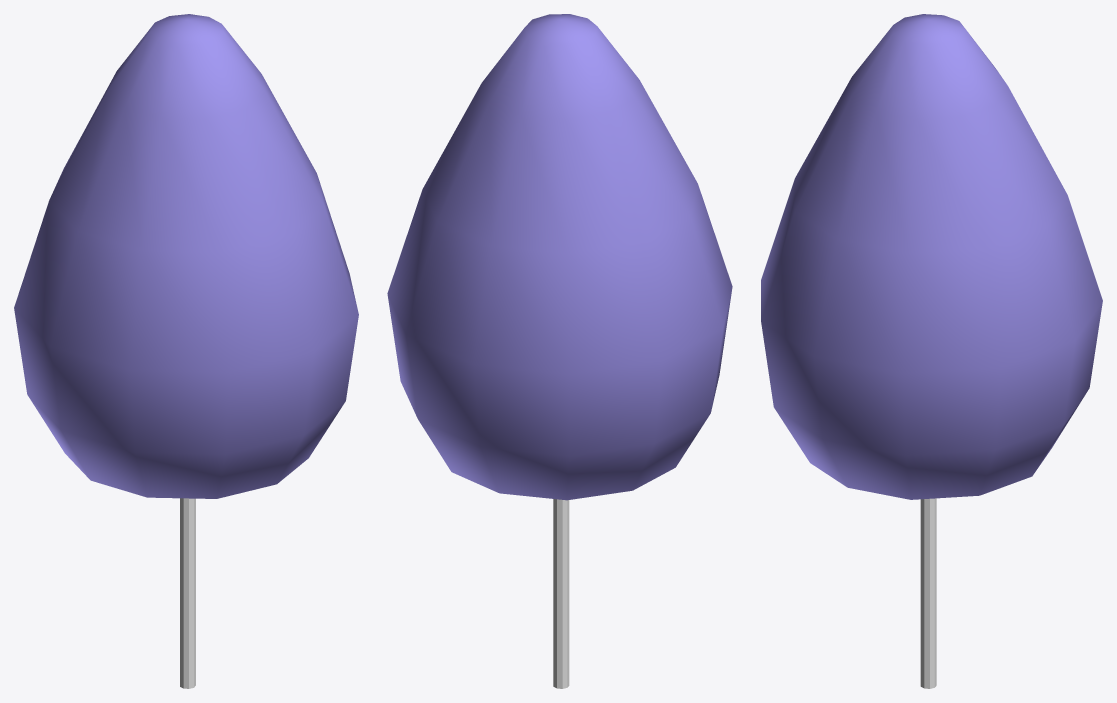
Rendered from 4_LilacTree.fbx.
3 views of the same model, side by side, from view 1: azimuth 30°, elevation 25°; view 2: azimuth 150°, elevation 25°; view 3: azimuth 270°, elevation 25° (orthographic).
Visible parts, largest first — view 1: Sphere.055, Cylinder.053; view 2: Sphere.055, Cylinder.053; view 3: Sphere.055, Cylinder.053.
Part boxes in pixels (<box>): Sphere.055: <box>14,14,358,498</box>; Cylinder.053: <box>180,498,195,688</box>; Sphere.055: <box>387,14,732,500</box>; Cylinder.053: <box>553,499,569,688</box>; Sphere.055: <box>761,14,1102,499</box>; Cylinder.053: <box>920,498,936,688</box>.
Bounding box in the file's own units: 119 × 252 × 118.
